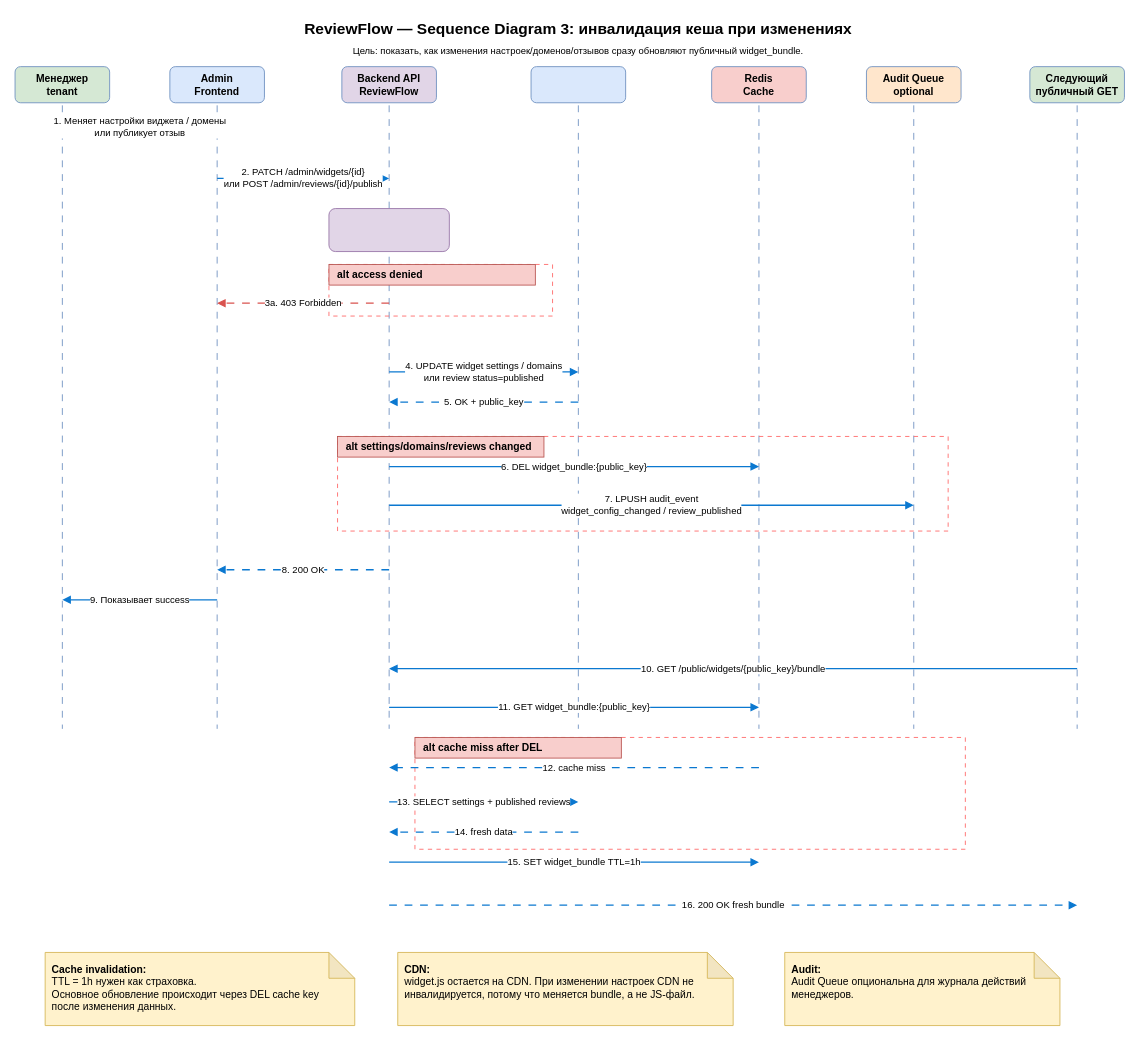
The diagram is 1140 pixels wide and 1041 high, and some of its shapes have lost their labels. Each missing label, with the box of its shape:
3. Проверяет JWT, role и tenant_id: (328, 208, 449, 252)
PostgreSQL main DB: (530, 66, 626, 103)
